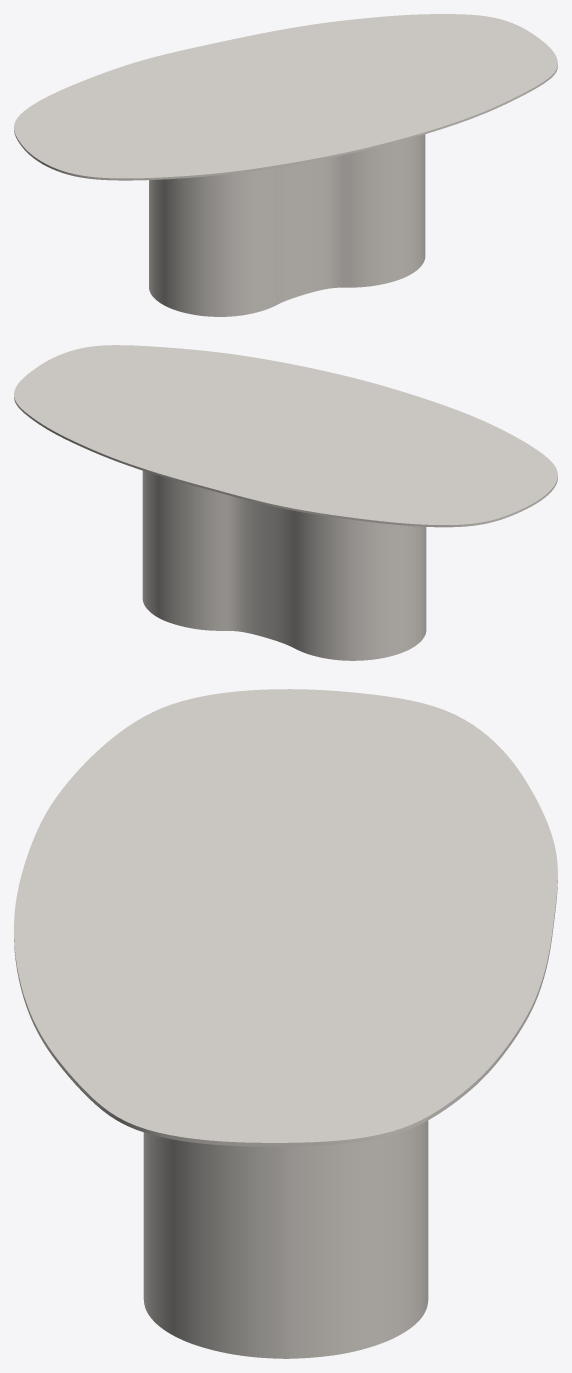
File: pearlwhite_danish_facet_riverwave.glb
3 renders of one model, top to bottom at view 1: azimuth 30°, elevation 25°; view 2: azimuth 150°, elevation 25°; view 3: azimuth 270°, elevation 25°, orthographic. The views are drawn at different scales.
Parts seen in each view (by area): view 1: facet_danish, riverwave; view 2: facet_danish, riverwave; view 3: facet_danish, riverwave.
Part boxes in pixels (bbox=[...]): facet_danish: bbox=[14, 14, 557, 180]; riverwave: bbox=[149, 134, 425, 316]; facet_danish: bbox=[14, 345, 557, 527]; riverwave: bbox=[142, 470, 426, 660]; facet_danish: bbox=[14, 689, 557, 1146]; riverwave: bbox=[143, 1120, 428, 1358].
Bounding box in the file's own units: 7.5 × 2.5 × 3.8.
1 material, 1 textured.
